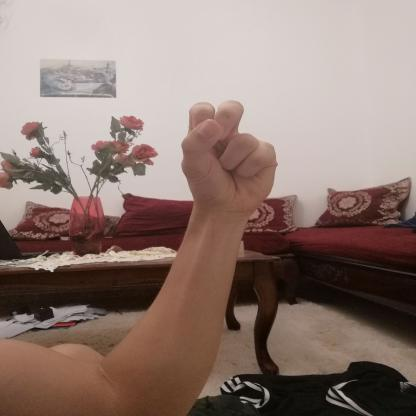QAAF: (165, 89, 298, 225)
